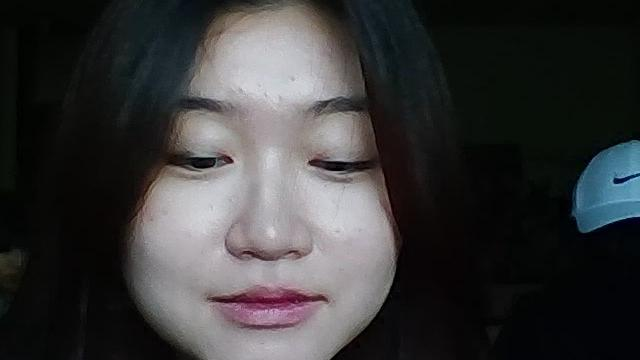eye: (324, 159, 345, 179), (192, 154, 214, 173)
iris: (167, 152, 235, 170), (308, 157, 372, 176)
